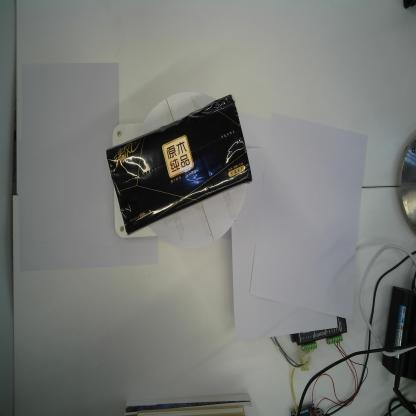Tissue: (105, 92, 253, 238)
